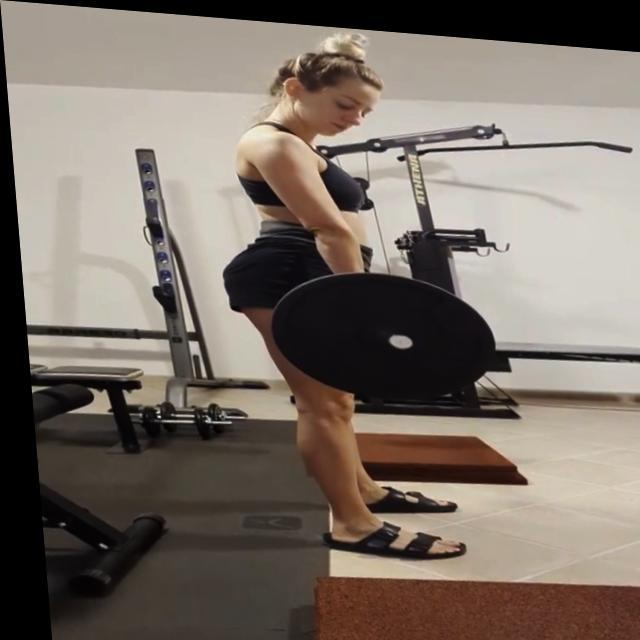barbell: (252, 254, 501, 408)
